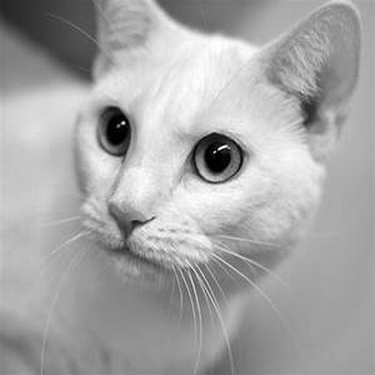cat: (8, 2, 364, 367)
